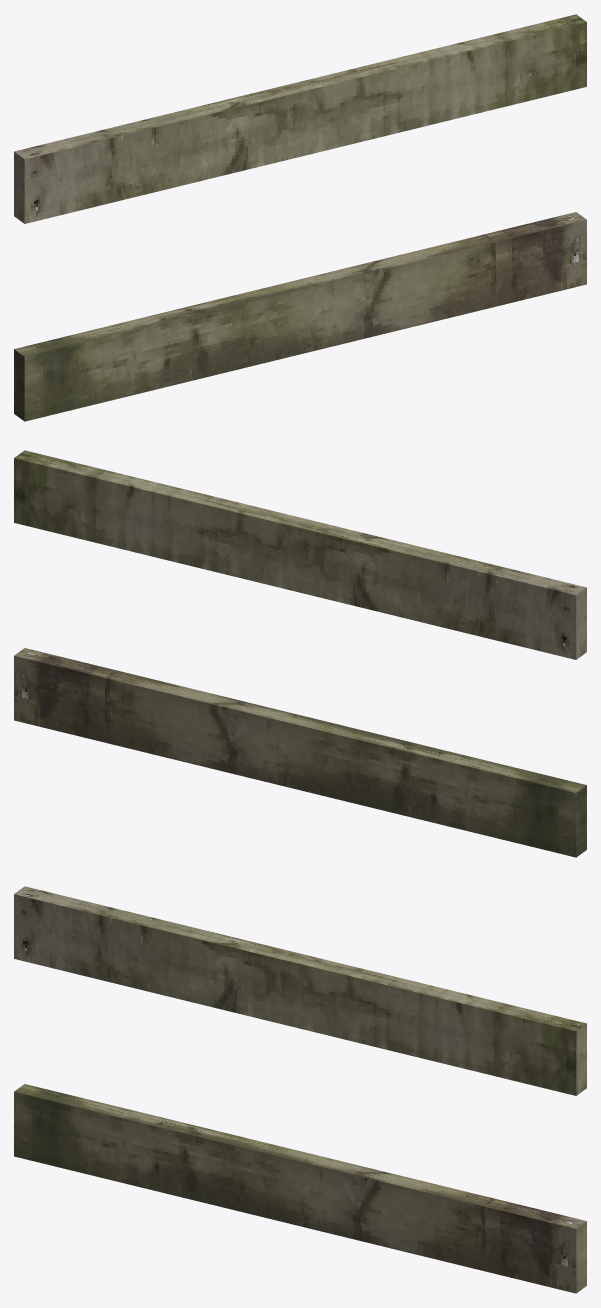
The model's file is FenceBars.glb.
The picture shows the model from 3 angles, top to bottom: view 1: azimuth 30°, elevation 25°; view 2: azimuth 150°, elevation 25°; view 3: azimuth 330°, elevation 25°; orthographic projection.
Visible parts, largest first — view 1: FenceBars; view 2: FenceBars; view 3: FenceBars.
Boxes of the visible parts, bbox=[...] form: FenceBars: bbox=[14, 14, 586, 421]; FenceBars: bbox=[14, 450, 586, 857]; FenceBars: bbox=[14, 886, 586, 1293].
Bounding box in the file's own units: 2.08 × 0.9292 × 0.0688.
1 material, 1 textured.
